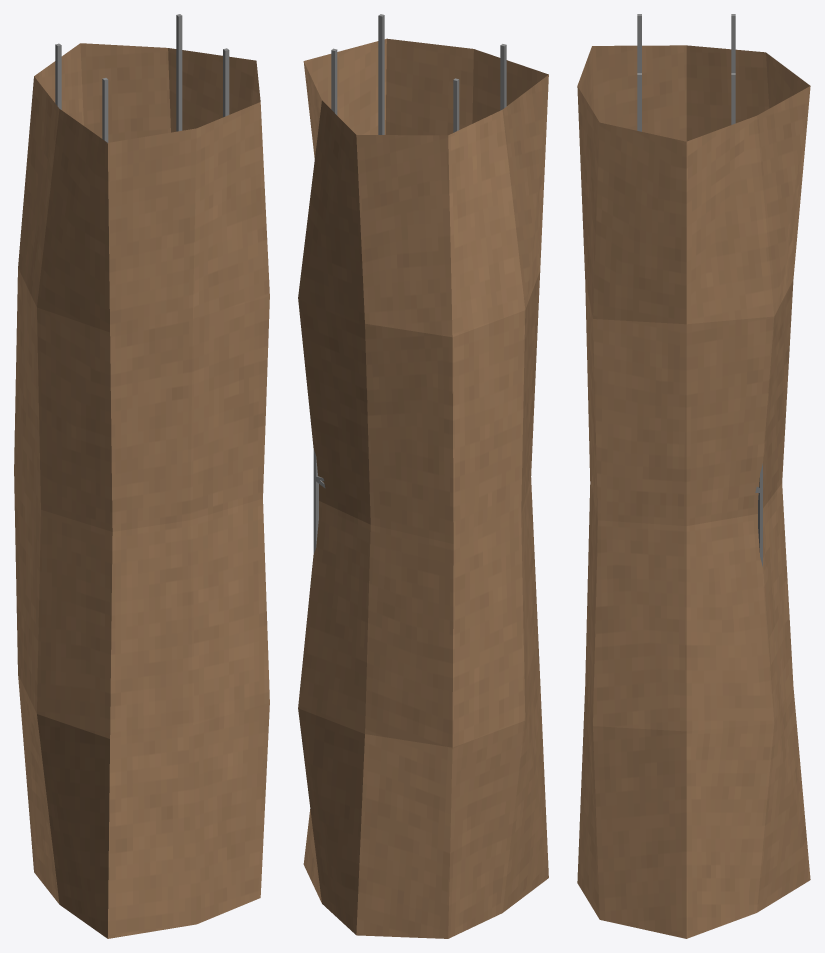
File: SM_Lobby.fbx
3 renders of one model, left to right at view 1: azimuth 30°, elevation 25°; view 2: azimuth 150°, elevation 25°; view 3: azimuth 270°, elevation 25°, orthographic.
Parts seen in each view (by area): view 1: Cube.003, Beams; view 2: Cube.003, Beams, Girders; view 3: Cube.003, Beams.
Boxes of the visible parts, <box> form: Cube.003: <box>14,43,269,938</box>; Beams: <box>55,14,229,142</box>; Cube.003: <box>298,38,548,938</box>; Beams: <box>331,14,506,134</box>; Girders: <box>313,449,325,553</box>; Cube.003: <box>577,45,810,938</box>; Beams: <box>637,14,735,131</box>.
Size of the model in its own units: 1575 by 5738 by 1446.
